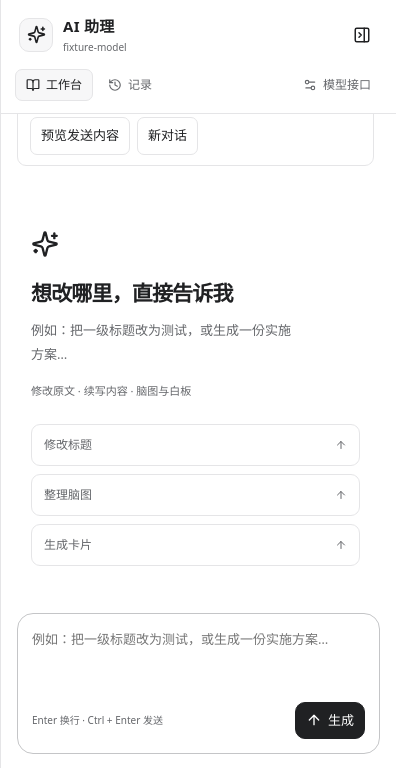
AI workspace › does not append model explanations for an edit request
(page scrolled)
Expected: the text "fixture-model" is shown, [63,39,127,55]
In the text box named "向 AI 助理发送消息": (199, 661) [32,628,365,694], type "一级标题改为测试"
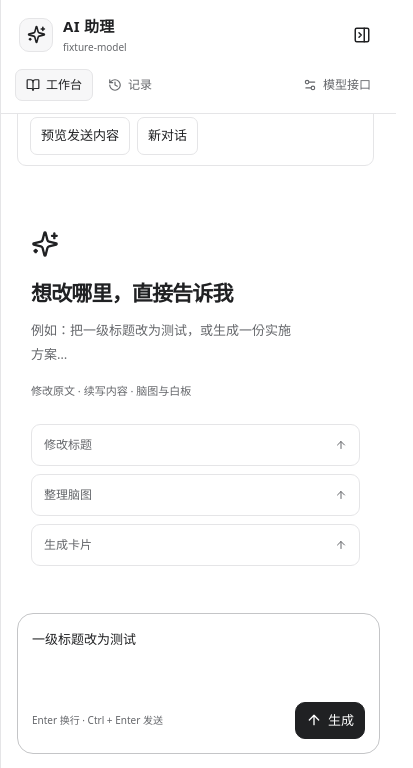
Click the button "生成": (330, 720) [295,702,365,739]
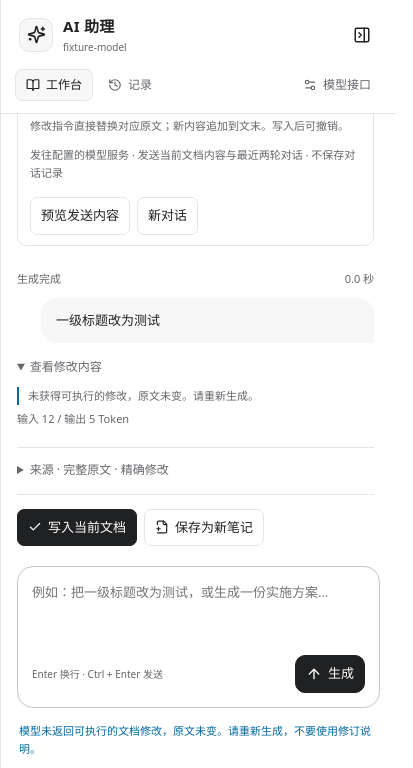
Expected: the message shows "原文未变", [19,723,371,756]
